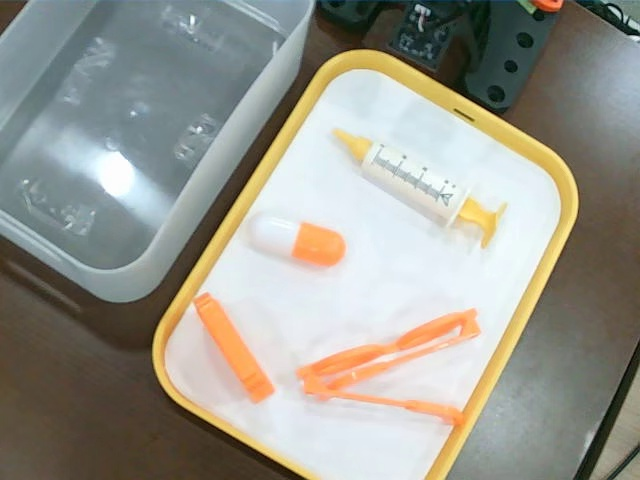pill: (246, 213, 348, 269)
syringe: (328, 122, 511, 248)
